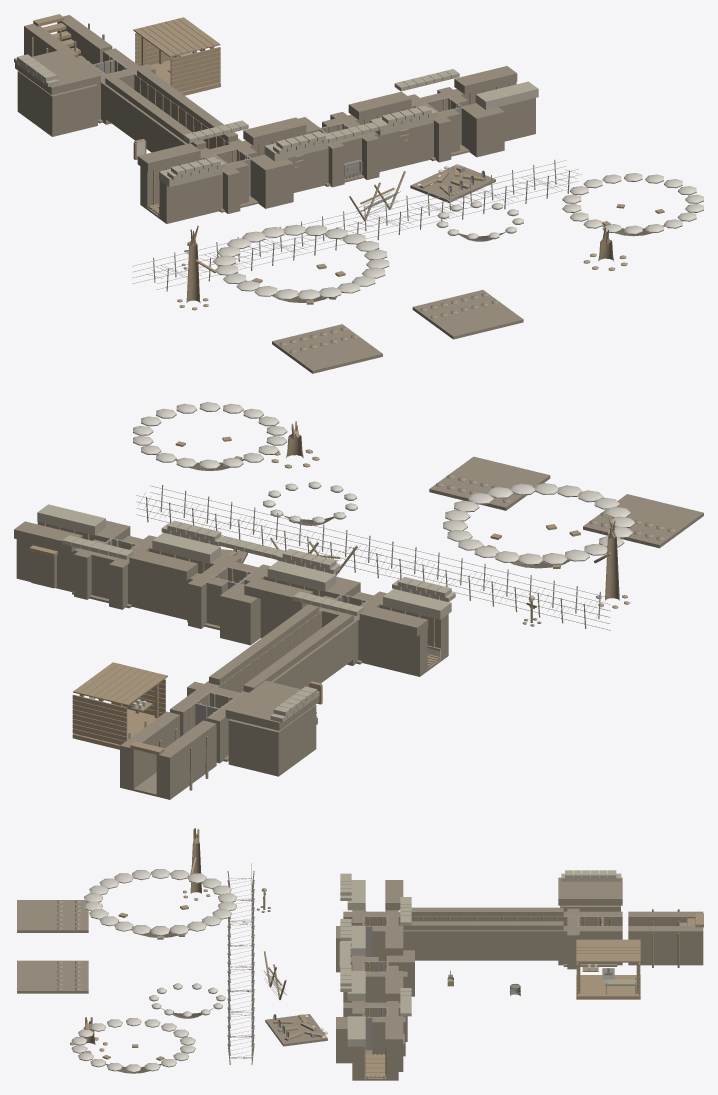
The model's file is trench-line-1917-front-line-sector-1c315986-starter-scene__24130.glb.
The picture shows the model from 3 angles, top to bottom: view 1: azimuth 30°, elevation 25°; view 2: azimuth 150°, elevation 25°; view 3: azimuth 270°, elevation 25°; orthographic projection. The views are drawn at different scales.
Parts seen in each view (by area): view 1: 011-officer-dugout-entrance/0, 012-aid-post/0, 024-shell-crater-large/1, 006-traverse-corner/1, 004-traverse-corner/1, 000-fire-bay-straight/1, 002-fire-bay-straight/1, 031-mud-pool-tile/0, 032-mud-pool-tile/0, 005-traverse-corner/1, 026-shell-crater-flooded/1, 003-funk-hole-bay/1 (+21 smaller); view 2: 011-officer-dugout-entrance/0, 012-aid-post/0, 013-ramp-exit/1, 005-traverse-corner/1, 024-shell-crater-large/1, 000-fire-bay-straight/1, 006-traverse-corner/1, 002-fire-bay-straight/1, 003-funk-hole-bay/1, 026-shell-crater-flooded/1, 007-communication-trench/1, 031-mud-pool-tile/0 (+22 smaller); view 3: 013-ramp-exit/1, 024-shell-crater-large/1, 012-aid-post/0, 008-communication-trench/1, 009-communication-trench/1, 007-communication-trench/1, 010-trench-junction-t/1, 031-mud-pool-tile/0, 006-traverse-corner/1, 032-mud-pool-tile/0, 026-shell-crater-flooded/1, 011-officer-dugout-entrance/0 (+20 smaller).
Boxes of the visible parts, box(x1,y1,x2,y2) form: 011-officer-dugout-entrance/0: box(15, 49, 100, 136); 012-aid-post/0: box(133, 17, 220, 95); 024-shell-crater-large/1: box(213, 224, 389, 300); 006-traverse-corner/1: box(406, 87, 504, 162); 004-traverse-corner/1: box(195, 138, 293, 213); 000-fire-bay-straight/1: box(137, 143, 216, 223); 002-fire-bay-straight/1: box(348, 91, 427, 171); 031-mud-pool-tile/0: box(412, 290, 523, 339); 032-mud-pool-tile/0: box(272, 324, 382, 373); 005-traverse-corner/1: box(293, 112, 379, 187); 026-shell-crater-flooded/1: box(562, 173, 703, 234); 003-funk-hole-bay/1: box(454, 66, 535, 141); 011-officer-dugout-entrance/0: box(225, 680, 319, 776); 012-aid-post/0: box(72, 662, 167, 749); 013-ramp-exit/1: box(120, 711, 216, 799); 005-traverse-corner/1: box(186, 554, 273, 645); 024-shell-crater-large/1: box(443, 483, 635, 565); 000-fire-bay-straight/1: box(359, 605, 448, 676); 006-traverse-corner/1: box(74, 520, 156, 609); 002-fire-bay-straight/1: box(129, 549, 204, 619); 003-funk-hole-bay/1: box(14, 521, 82, 591); 026-shell-crater-flooded/1: box(133, 402, 287, 469); 007-communication-trench/1: box(276, 604, 356, 681); 031-mud-pool-tile/0: box(429, 456, 550, 510); 013-ramp-exit/1: box(628, 911, 703, 965); 024-shell-crater-large/1: box(84, 869, 236, 936); 012-aid-post/0: box(576, 939, 640, 999); 008-communication-trench/1: box(456, 907, 509, 960); 009-communication-trench/1: box(510, 907, 563, 960); 007-communication-trench/1: box(403, 907, 456, 960); 010-trench-junction-t/1: box(558, 908, 622, 969); 031-mud-pool-tile/0: box(17, 960, 88, 993); 006-traverse-corner/1: box(336, 1001, 407, 1063); 032-mud-pool-tile/0: box(17, 900, 88, 932); 026-shell-crater-flooded/1: box(71, 1018, 195, 1072); 011-officer-dugout-entrance/0: box(558, 877, 622, 911).
Bounding box in the file's own units: 28.26 × 6.32 × 38.51.
